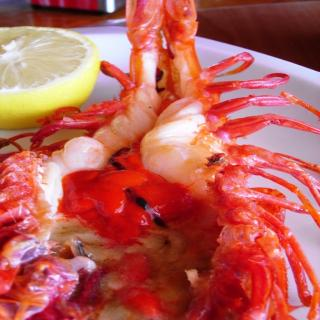Lemon: (0, 27, 99, 130)
